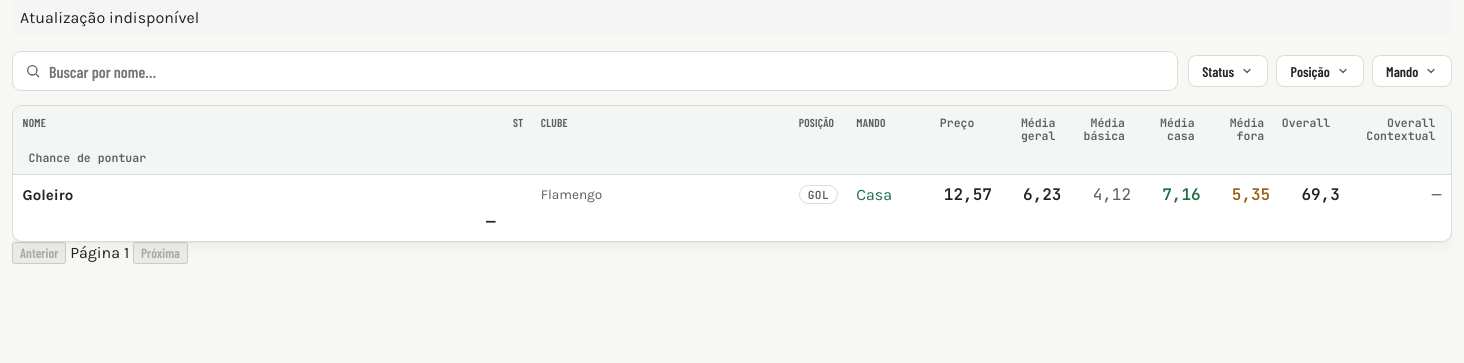
it: Jogadores › shows an empty state when no athlete matches the filters
expect the text "Goleiro" is shown: met, box x1=23 y1=186 x2=73 y2=204
Click the button "Posição" at (1320, 71), box x1=1276 y1=55 x2=1364 y2=87
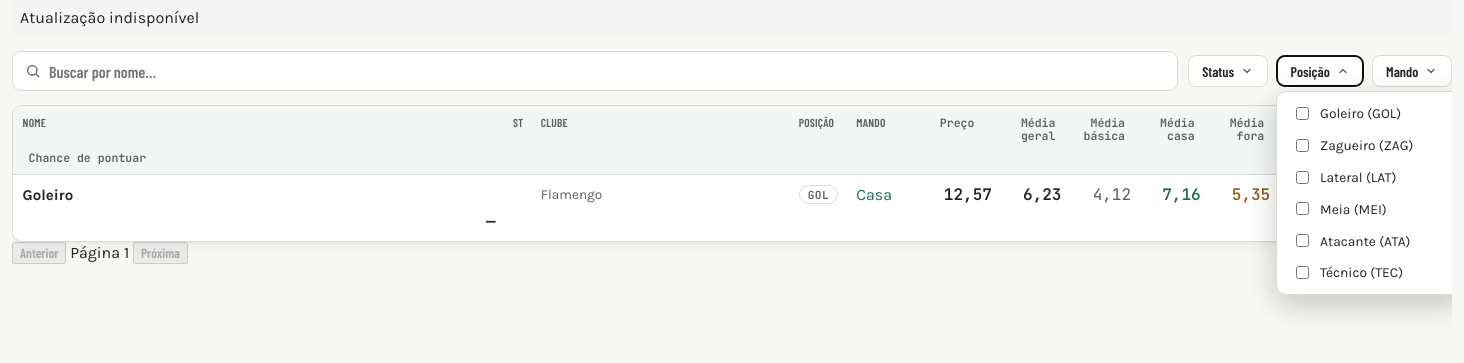
Click the option "Atacante (ATA)" at (1353, 241), box x1=1296 y1=233 x2=1410 y2=249
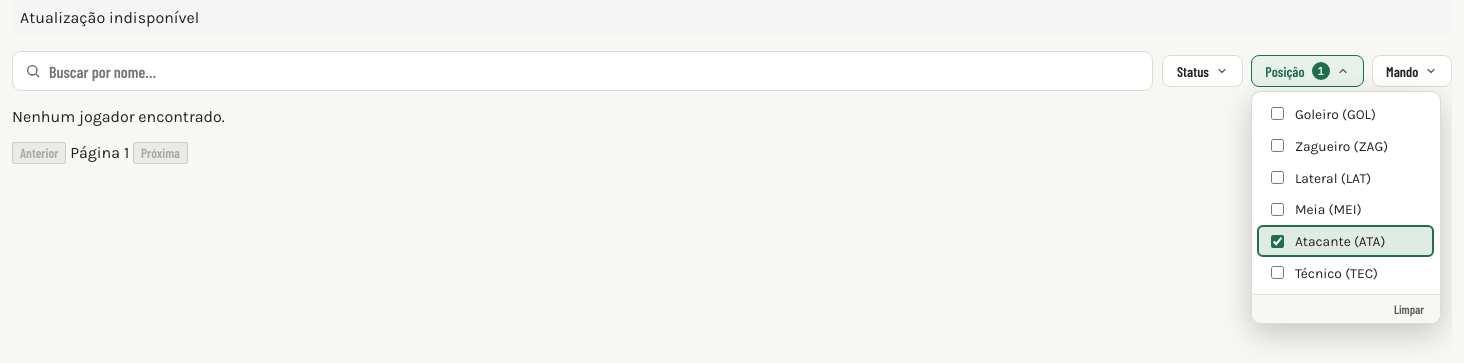
expect the text "Nenhum jogador encontrado." is shown: met, box x1=12 y1=107 x2=225 y2=126
expect the table is gone: met
